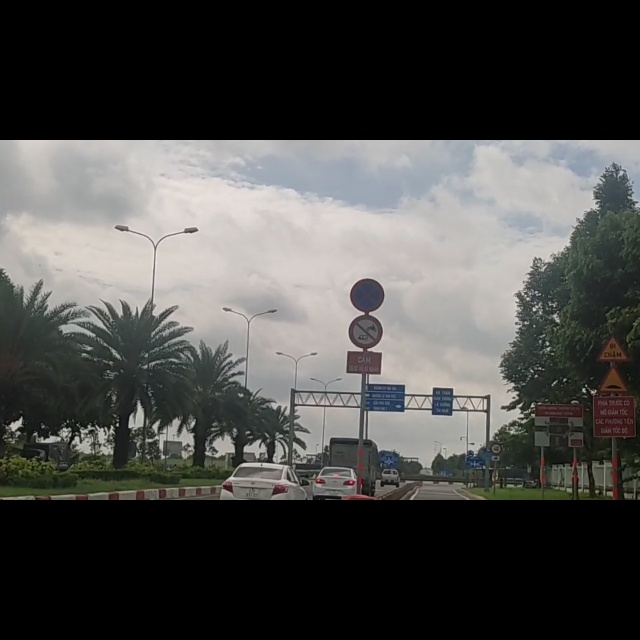bien_chi_dan: (347, 242, 385, 306), (346, 311, 383, 370), (597, 399, 630, 453), (597, 346, 630, 395)
